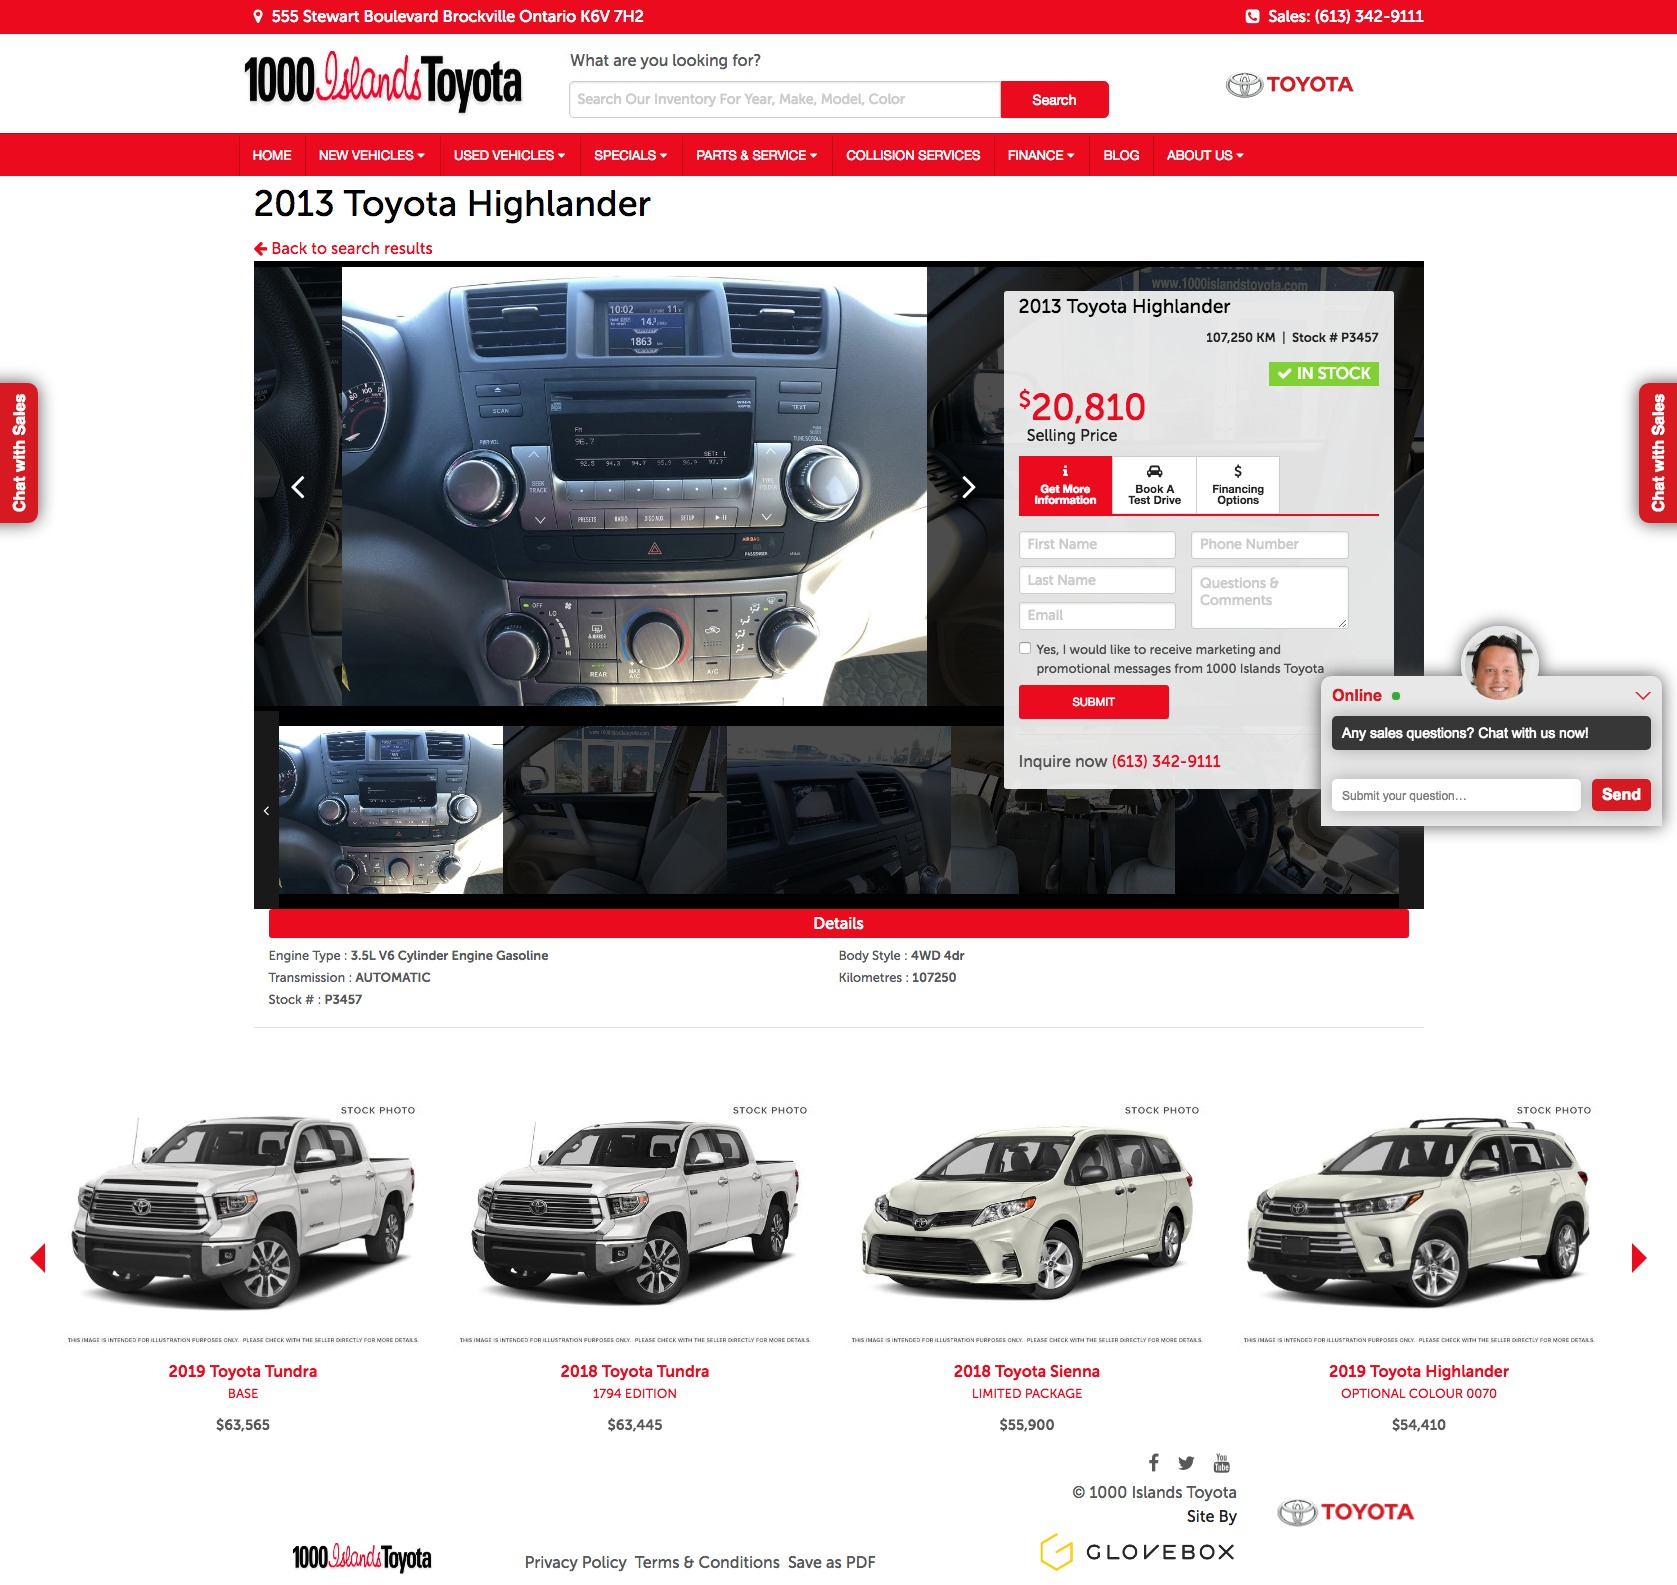car: (953, 463, 983, 515)
